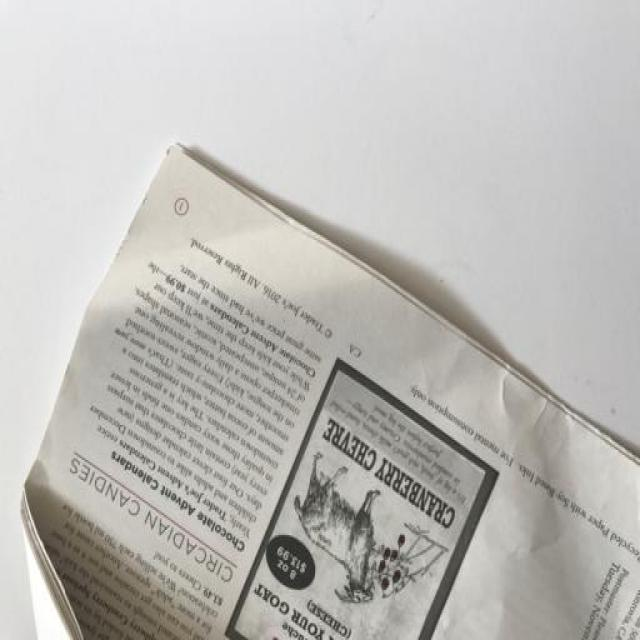paper: (17, 107, 640, 640)
